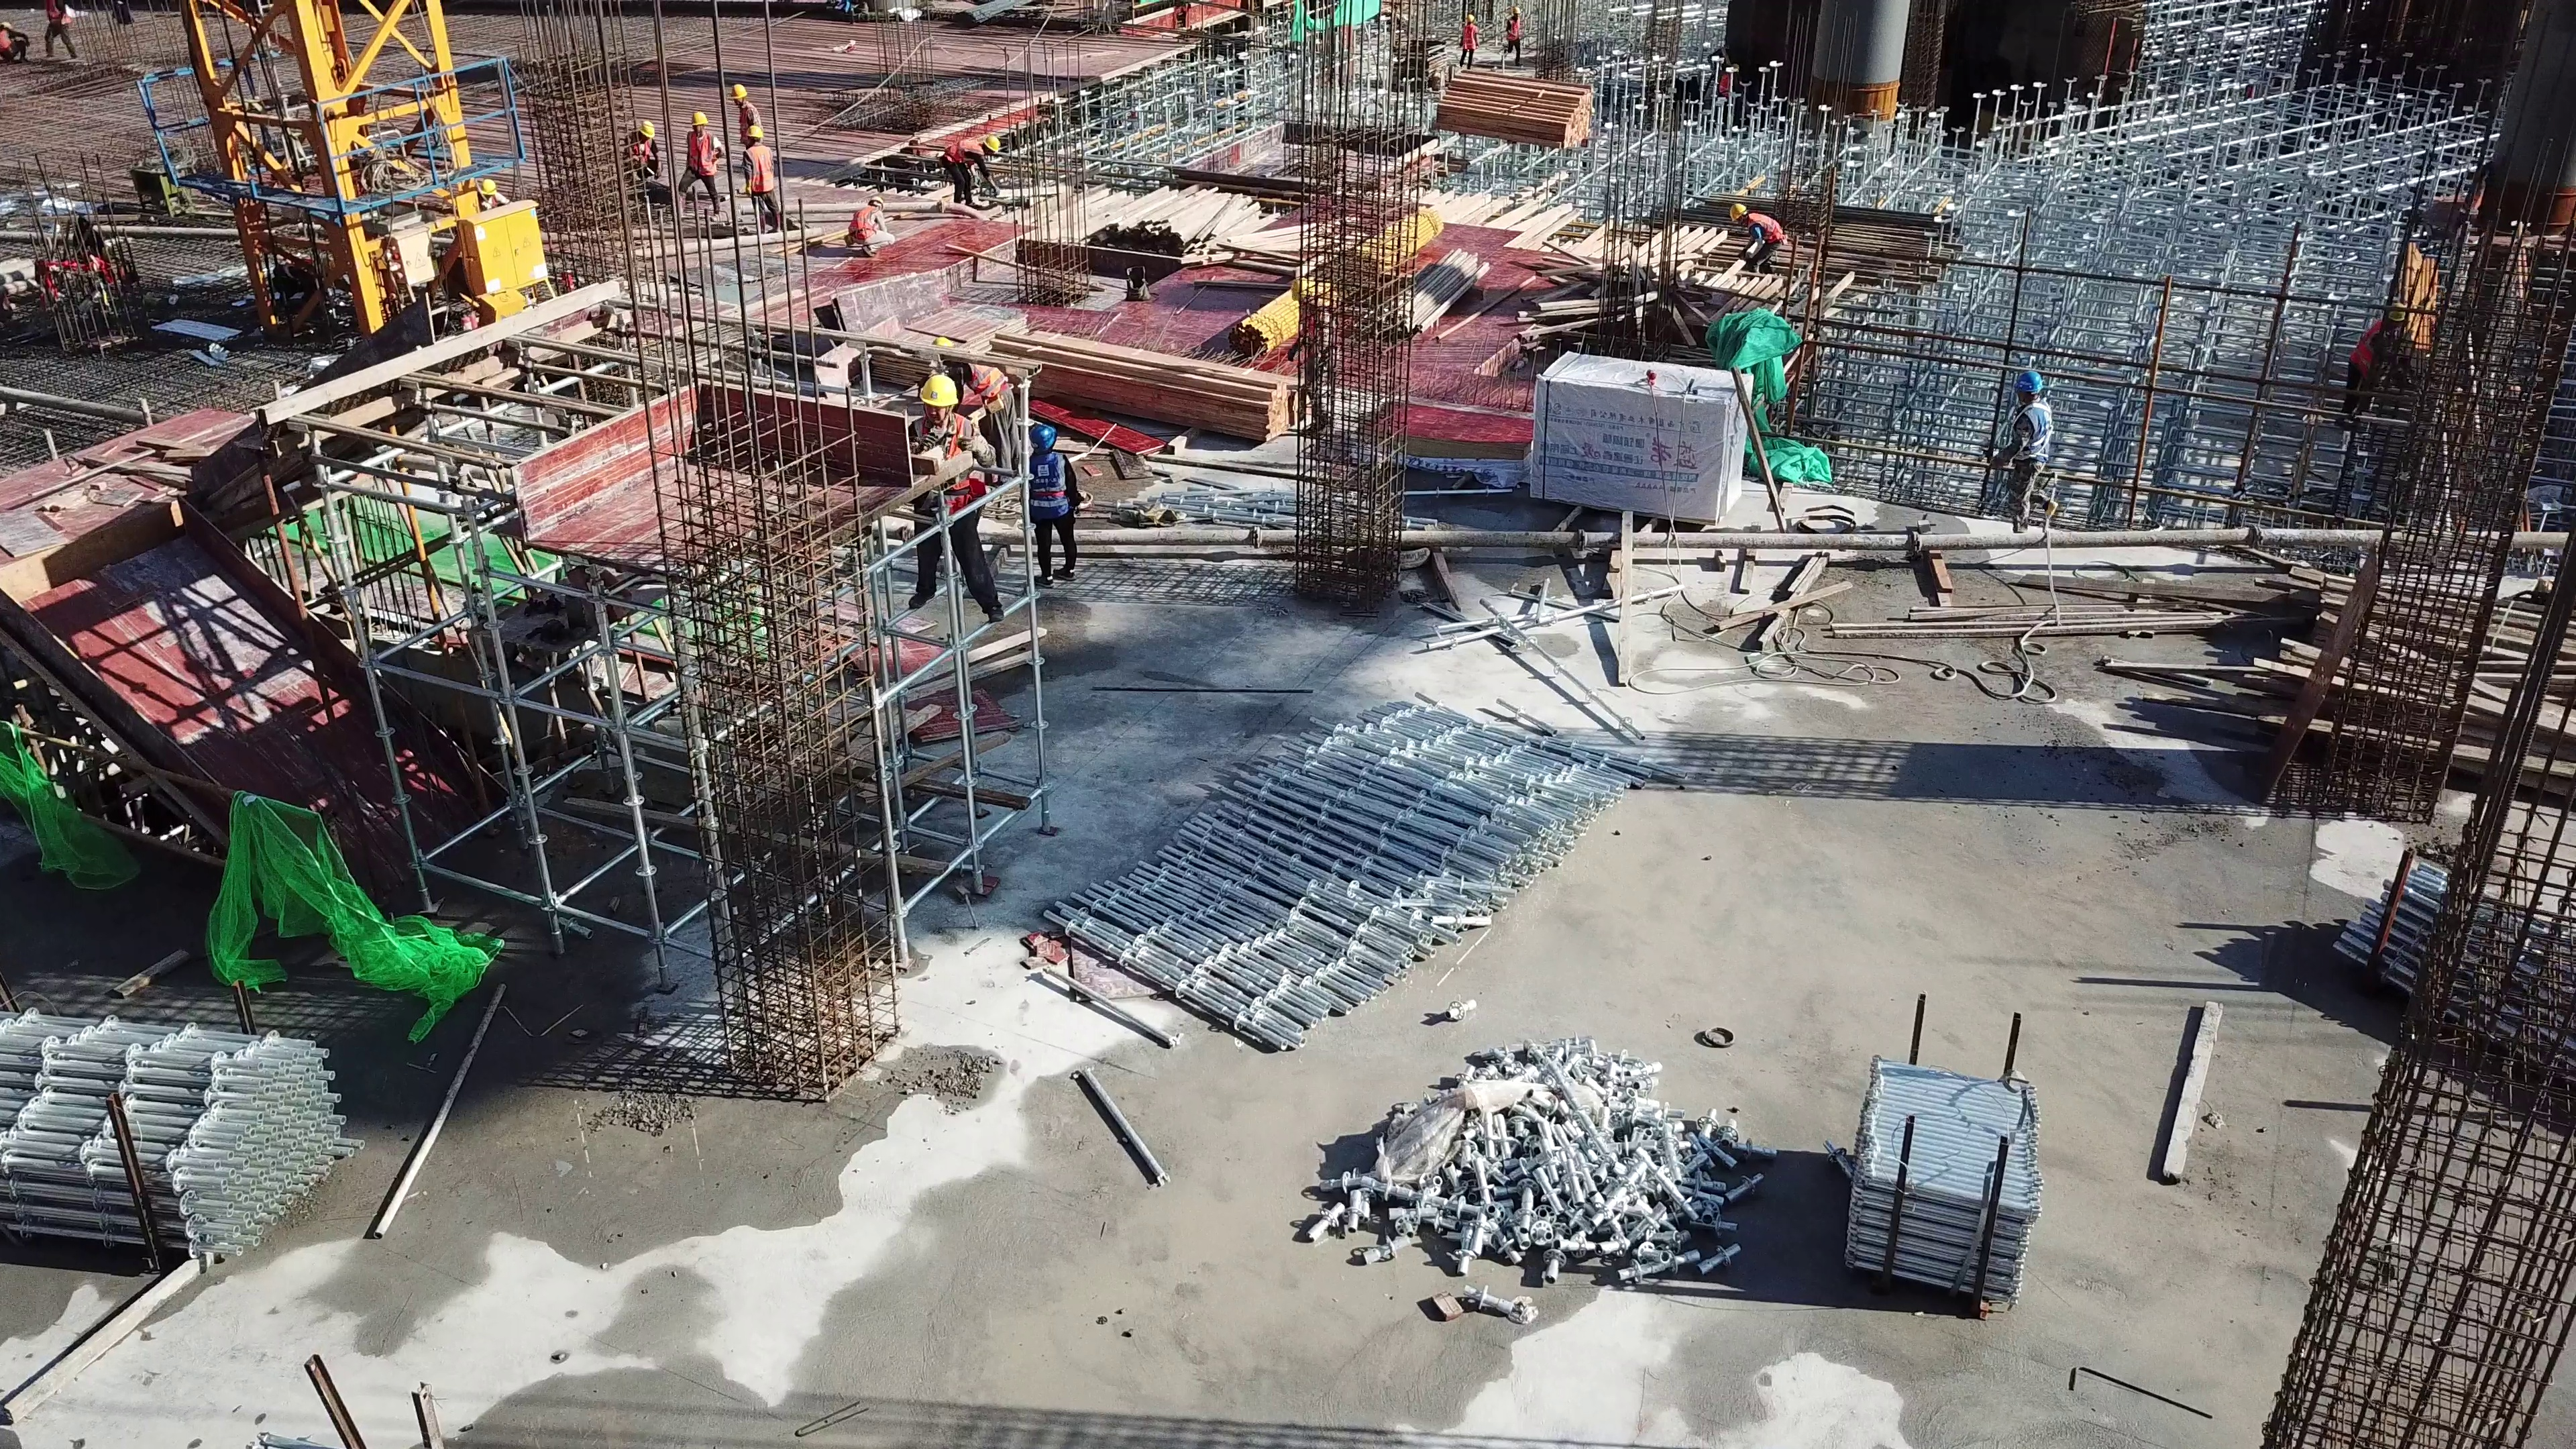board: (1370, 411, 1521, 466), (874, 316, 1001, 384)
ebox: (461, 209, 546, 303), (380, 238, 436, 307)
helmet: (922, 373, 957, 409), (1028, 422, 1060, 455), (2015, 372, 2045, 399), (983, 133, 1002, 156), (639, 120, 656, 141), (690, 111, 705, 129), (934, 337, 953, 352), (731, 80, 745, 100), (2388, 303, 2402, 321), (482, 178, 498, 192), (748, 121, 761, 140), (1732, 204, 1745, 220), (873, 196, 882, 208), (1470, 15, 1475, 21), (1514, 8, 1519, 17)
person: (906, 374, 1008, 623), (938, 336, 1024, 480), (1991, 370, 2059, 529), (1024, 424, 1083, 588), (2343, 302, 2404, 422), (1290, 276, 1334, 439), (678, 111, 723, 215), (941, 135, 1004, 206), (744, 126, 780, 233), (1731, 203, 1783, 272), (845, 197, 894, 258), (622, 120, 663, 186), (42, 1, 78, 60), (733, 83, 761, 140), (478, 178, 515, 210), (1505, 7, 1524, 67), (1458, 13, 1479, 68), (1, 21, 28, 60)
rebar: (957, 1, 1014, 32)
scaffold: (1051, 729, 1578, 1038), (1, 981, 323, 1254), (2334, 836, 2576, 1101), (1845, 1046, 2033, 1301)
vest: (912, 415, 971, 510), (1028, 453, 1065, 519), (2010, 399, 2048, 461), (2350, 317, 2380, 374), (967, 358, 1003, 396), (747, 144, 775, 193), (688, 131, 715, 177), (945, 137, 985, 162), (1752, 214, 1782, 246), (47, 1, 73, 30), (853, 205, 875, 237), (1463, 24, 1474, 48), (1, 28, 13, 47), (1508, 19, 1518, 39), (1721, 72, 1729, 95)
wood: (1002, 329, 1291, 441), (1436, 72, 1589, 147)
